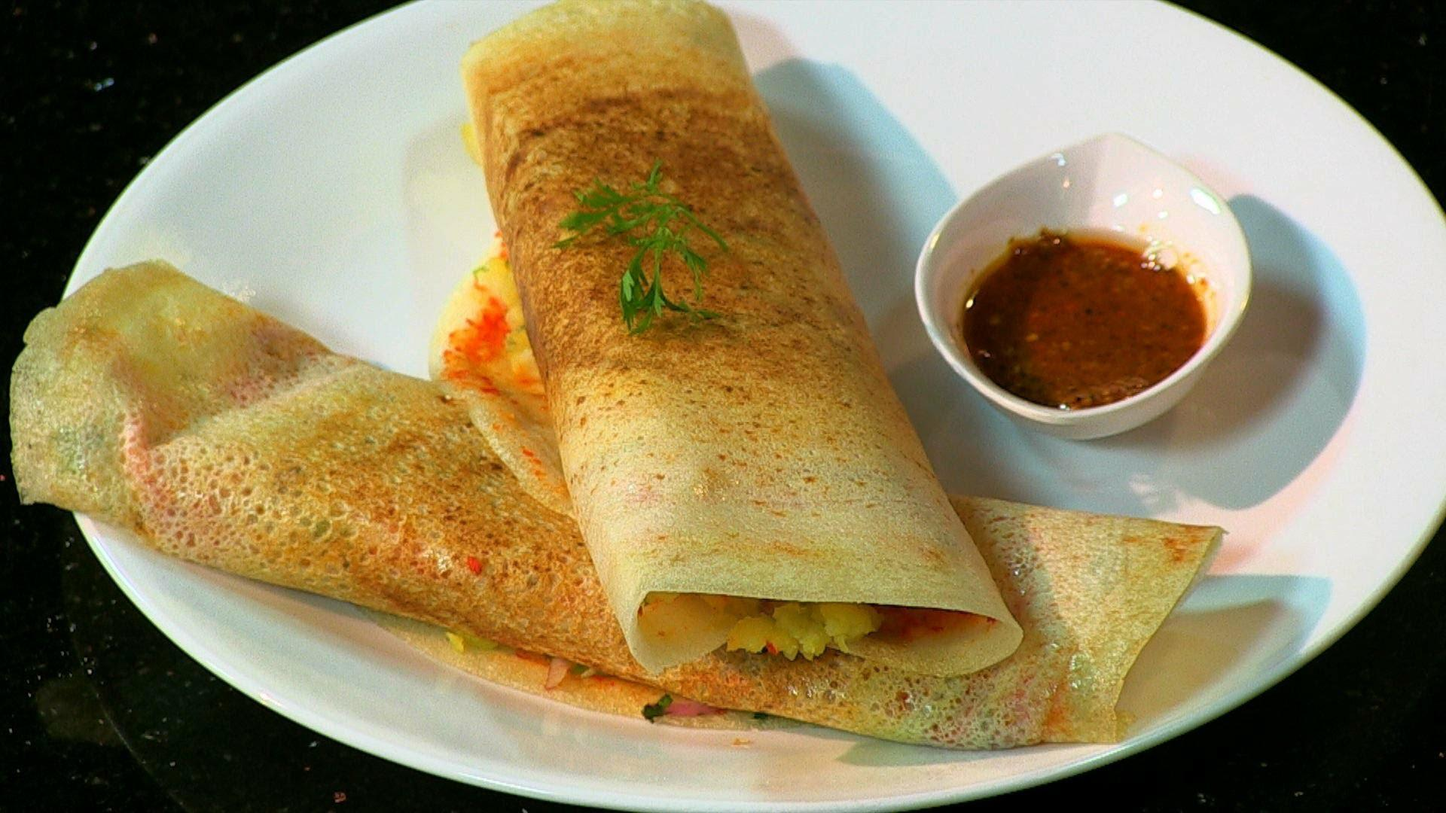Dosa: (8, 260, 1228, 750), (463, 2, 1023, 676)
